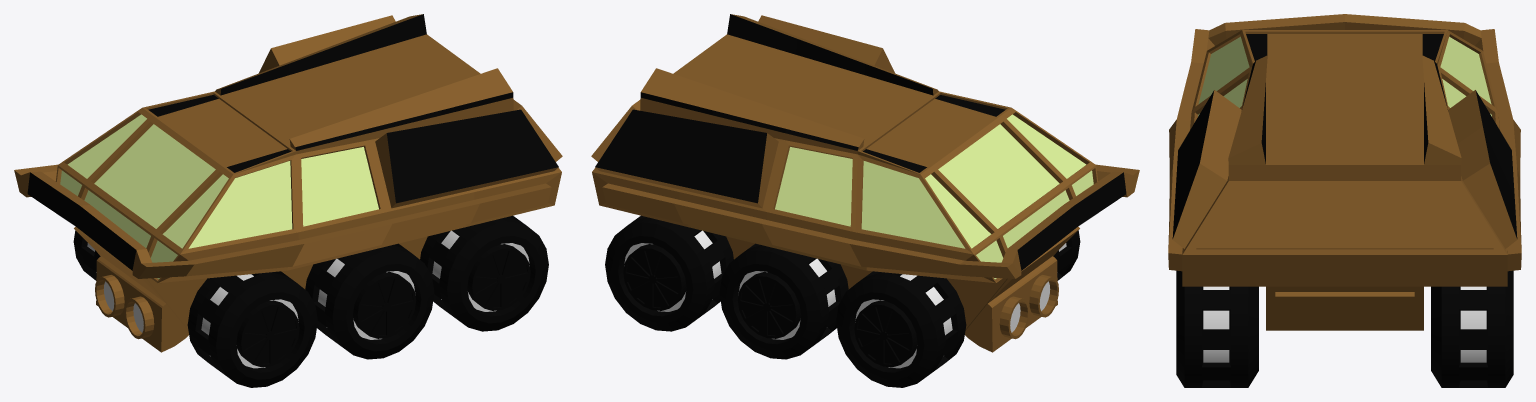
File: SimpleCar2.fbx
3 views of the same model, side by side, from view 1: azimuth 30°, elevation 25°; view 2: azimuth 150°, elevation 25°; view 3: azimuth 270°, elevation 25° (orthographic). The views are drawn at different scales.
Visible parts, largest first — view 1: Cabine, Wheeels.003, Wheeels.002, Wheeels.001; view 2: Cabine, Wheeels.003, Wheeels.002, Wheeels.001; view 3: Cabine, Wheeels.001.
Part boxes in pixels (bbox=[...]): Cabine: bbox=[14, 14, 562, 352]; Wheeels.003: bbox=[73, 230, 317, 387]; Wheeels.002: bbox=[305, 243, 434, 359]; Wheeels.001: bbox=[420, 215, 548, 331]; Cabine: bbox=[591, 14, 1139, 352]; Wheeels.003: bbox=[836, 230, 1080, 387]; Wheeels.002: bbox=[719, 243, 848, 359]; Wheeels.001: bbox=[605, 215, 733, 331]; Cabine: bbox=[1168, 14, 1521, 330]; Wheeels.001: bbox=[1176, 270, 1513, 387].
Size of the model in its own units: 693 by 361 by 448.
